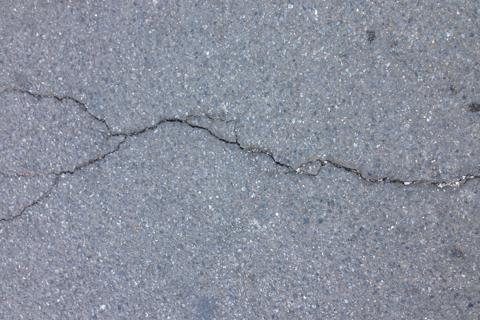crack: (124, 115, 478, 193), (1, 84, 122, 138), (1, 168, 62, 224), (61, 136, 127, 181)
